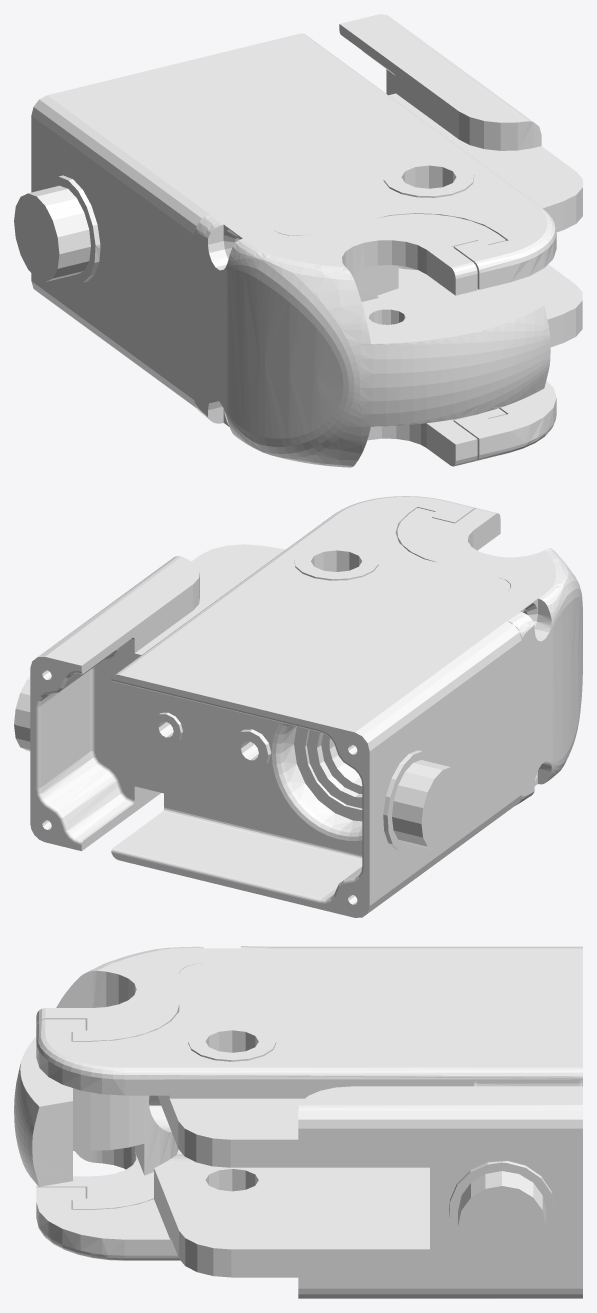
File: lh_pinky_metacarpals_vis.obj
The picture shows the model from 3 angles, top to bottom: view 1: azimuth 30°, elevation 25°; view 2: azimuth 150°, elevation 25°; view 3: azimuth 270°, elevation 25°; orthographic projection. The views are drawn at different scales.
Parts seen in each view (by area): view 1: lh_pinky_metacarpals; view 2: lh_pinky_metacarpals; view 3: lh_pinky_metacarpals.
Boxes of the visible parts, <box> form: lh_pinky_metacarpals: <box>14,14,582,467</box>; lh_pinky_metacarpals: <box>14,496,582,917</box>; lh_pinky_metacarpals: <box>14,946,582,1298</box>.
Size of the model in its own units: 0.0276 by 0.0122 by 0.0322.
Materials: 1 (1 with a texture image).
